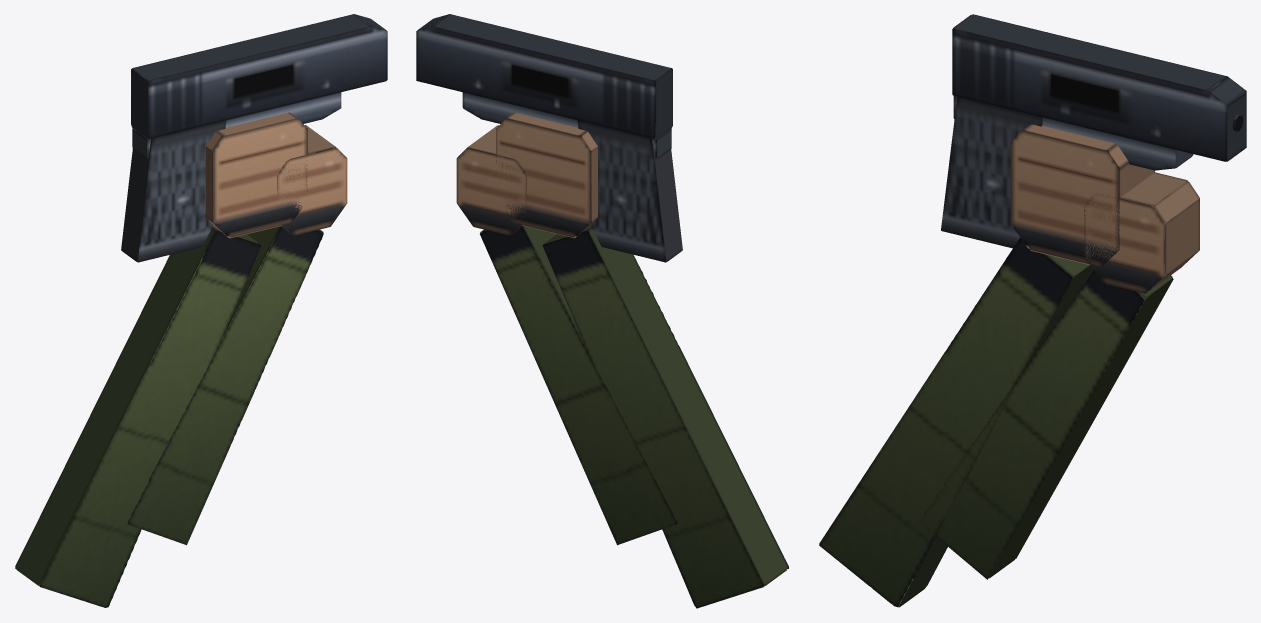
The model's file is pistol_fp_model.obj.
3 views of the same model, side by side, from view 1: azimuth 30°, elevation 25°; view 2: azimuth 150°, elevation 25°; view 3: azimuth 330°, elevation 25° (orthographic). The views are drawn at different scales.
Bounding box in the file's own units: 17.17 × 23.8 × 2.6.
1 material, 1 textured.
